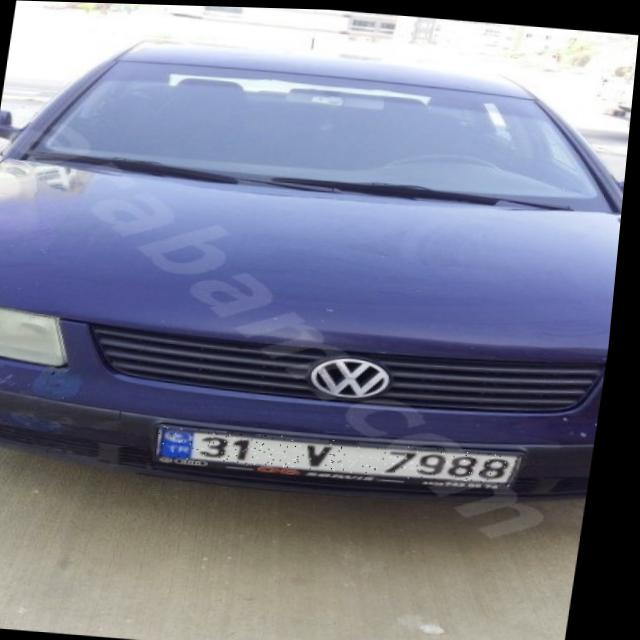license_plate: (163, 425, 531, 484)
